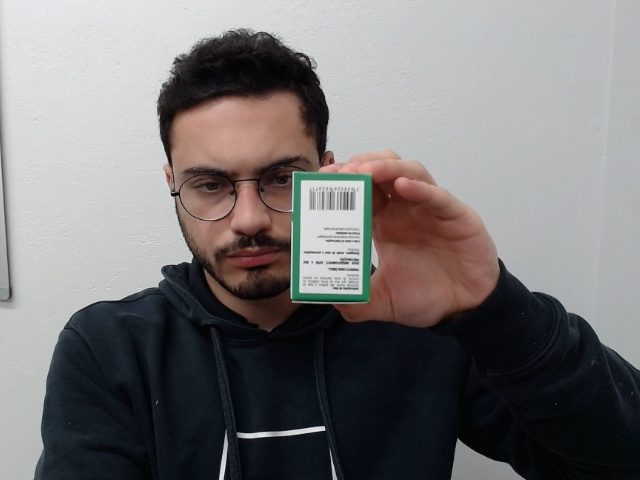divisor: (281, 164, 375, 310)
